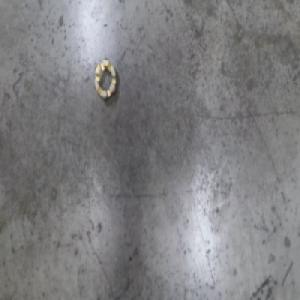Nut: (92, 55, 117, 100)
